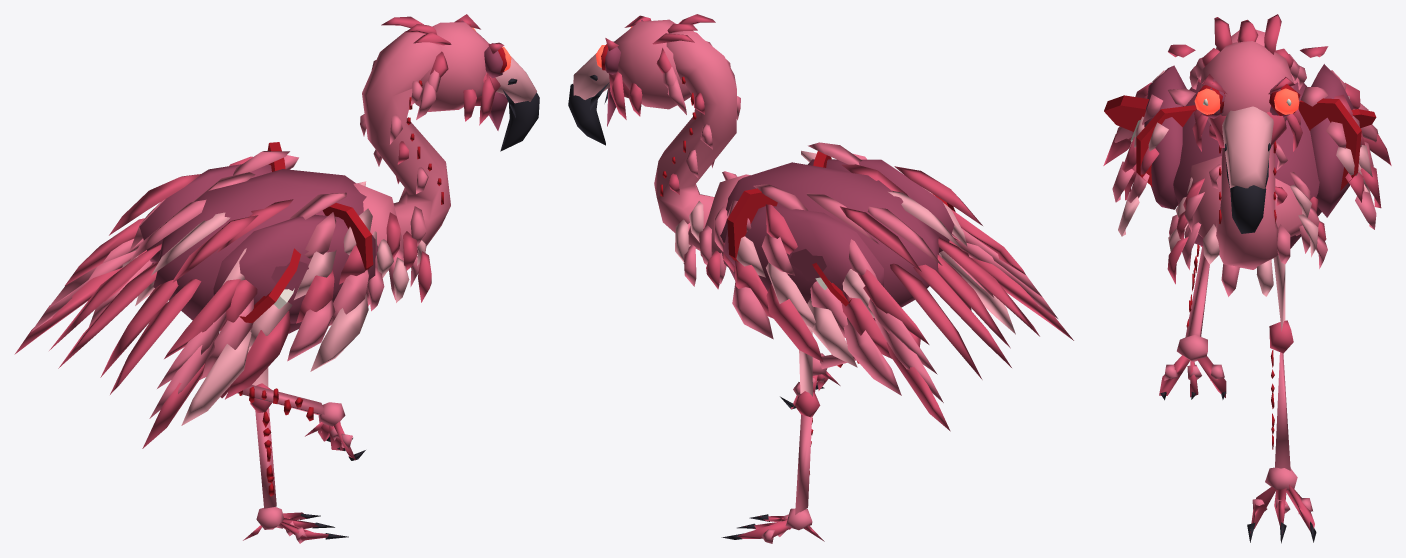
Rendered from inf.flamingo.lod1.glb.
The picture shows the model from 3 angles, left to right: view 1: azimuth 30°, elevation 25°; view 2: azimuth 150°, elevation 25°; view 3: azimuth 270°, elevation 25°; orthographic projection. The views are drawn at different scales.
Visible parts, largest first — view 1: body, neck, head, wingR, handR, foreArmR, tail, handL, wingL, shinL, footL, footR (+3 smaller); view 2: body, neck, head, wingL, handL, foreArmL, tail, handR, wingR, shinL, footL, stump_armL (+1 smaller); view 3: head, body, neck, wingR, wingL, footL, footR, shinL, stump_armL, foreArmR, foreArmL, shinR (+5 smaller).
Boxes of the visible parts, <box> form: body: <box>109,151,431,333</box>; neck: <box>360,31,450,254</box>; head: <box>371,14,539,151</box>; wingR: <box>213,208,375,330</box>; handR: <box>142,279,253,448</box>; foreArmR: <box>225,269,369,399</box>; tail: <box>49,243,201,394</box>; handL: <box>14,218,152,354</box>; wingL: <box>122,155,298,267</box>; shinL: <box>250,383,276,508</box>; footL: <box>243,507,348,543</box>; footR: <box>305,402,365,460</box>; body: <box>675,142,982,320</box>; neck: <box>654,31,740,250</box>; head: <box>568,14,730,145</box>; wingL: <box>723,200,883,318</box>; handL: <box>841,269,950,431</box>; foreArmL: <box>732,260,857,367</box>; tail: <box>890,237,1039,379</box>; handR: <box>939,210,1073,340</box>; wingR: <box>801,150,968,255</box>; shinL: <box>795,391,820,514</box>; footL: <box>721,508,824,543</box>; stump_armL: <box>727,188,777,262</box>; head: <box>1189,14,1306,233</box>; body: <box>1167,44,1328,296</box>; neck: <box>1209,29,1287,269</box>; wingR: <box>1134,65,1186,209</box>; wingL: <box>1310,64,1361,217</box>; footL: <box>1247,467,1316,543</box>; footR: <box>1159,334,1226,400</box>; shinL: <box>1269,320,1293,470</box>; stump_armL: <box>1298,98,1361,190</box>; foreArmR: <box>1112,137,1149,236</box>; foreArmL: <box>1345,145,1381,229</box>; shinR: <box>1185,244,1209,337</box>.
Bounding box in the file's own units: 1.58 × 1.6 × 0.7494.
